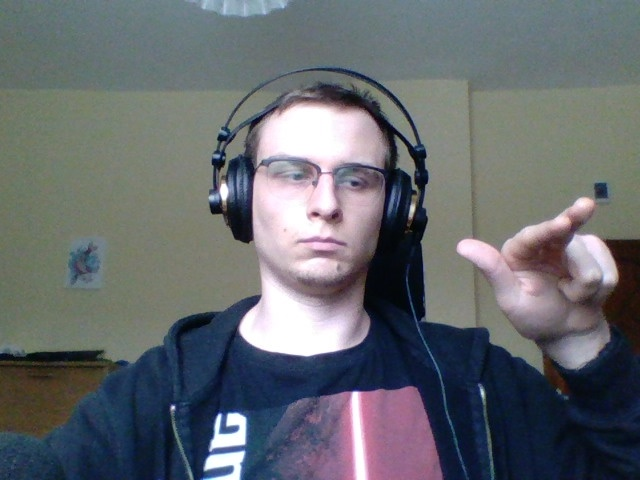no: (452, 176, 636, 350)
